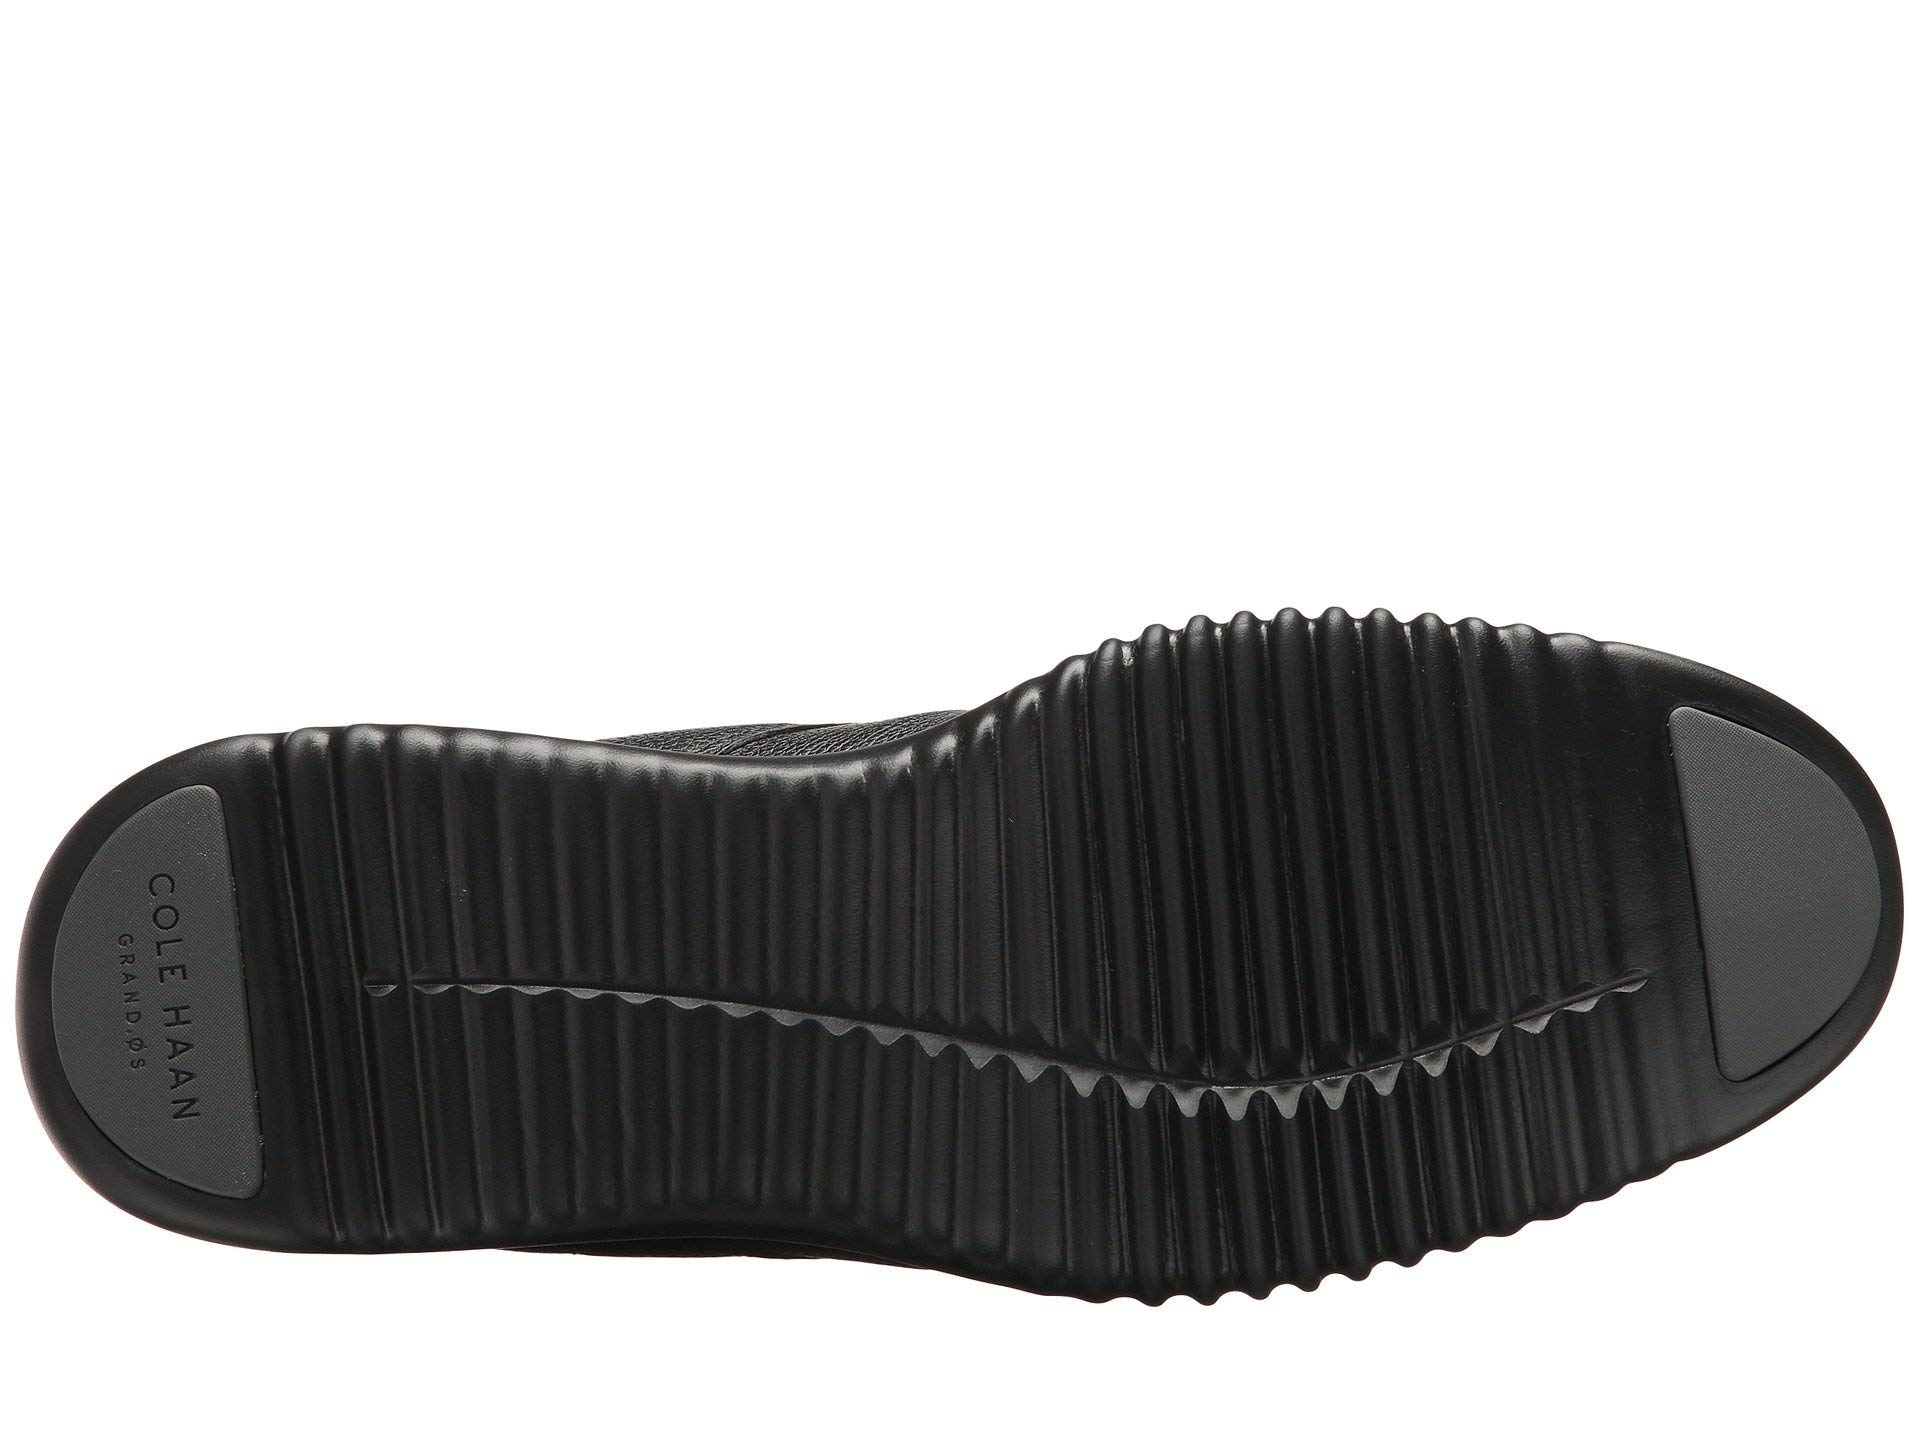circle: (74, 862, 234, 1150)
line: (372, 964, 1586, 1175), (588, 771, 1556, 964)
text: (74, 862, 234, 1150)
